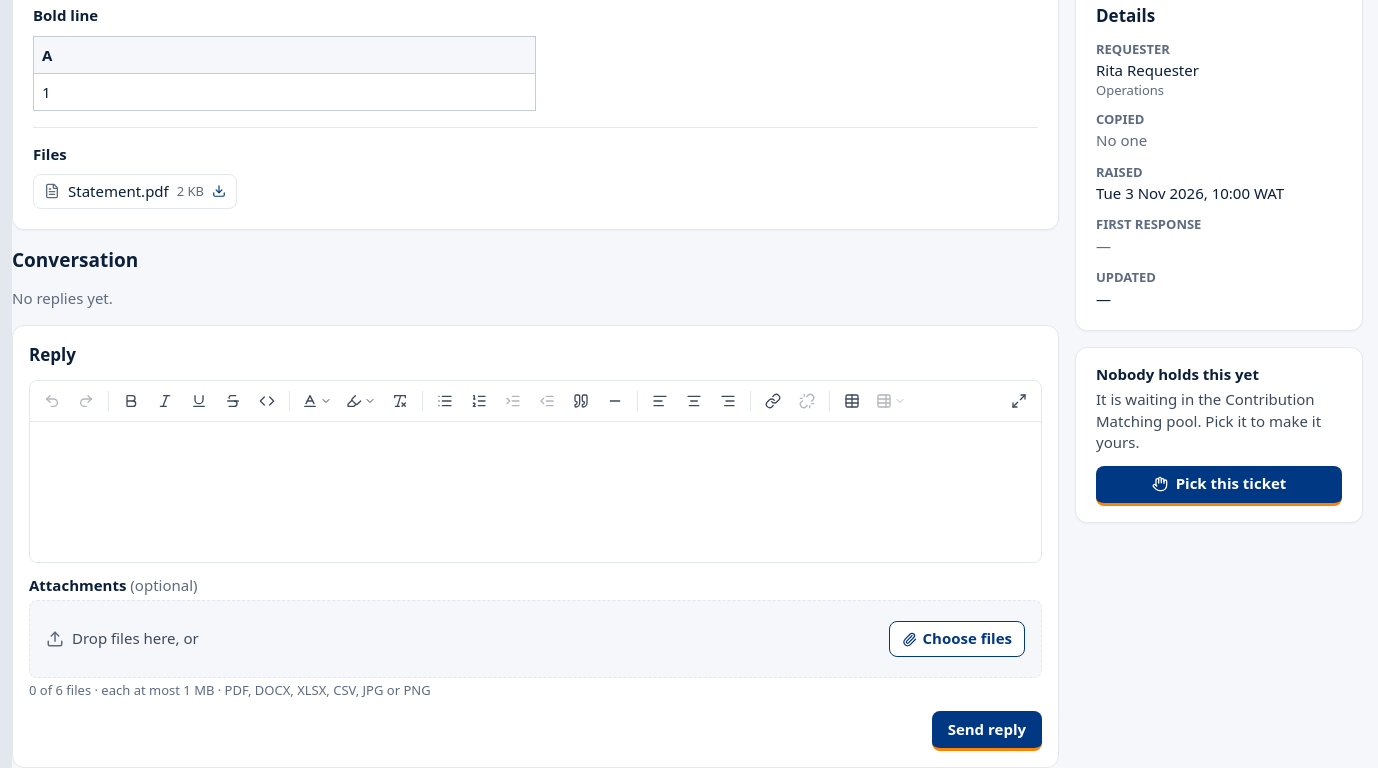
Test: Pick this ticket › shows the server's message when the pick is refused (403)
(page scrolled)
Click the button "Pick this ticket": x=1219, y=486 [1096,466,1342,506]
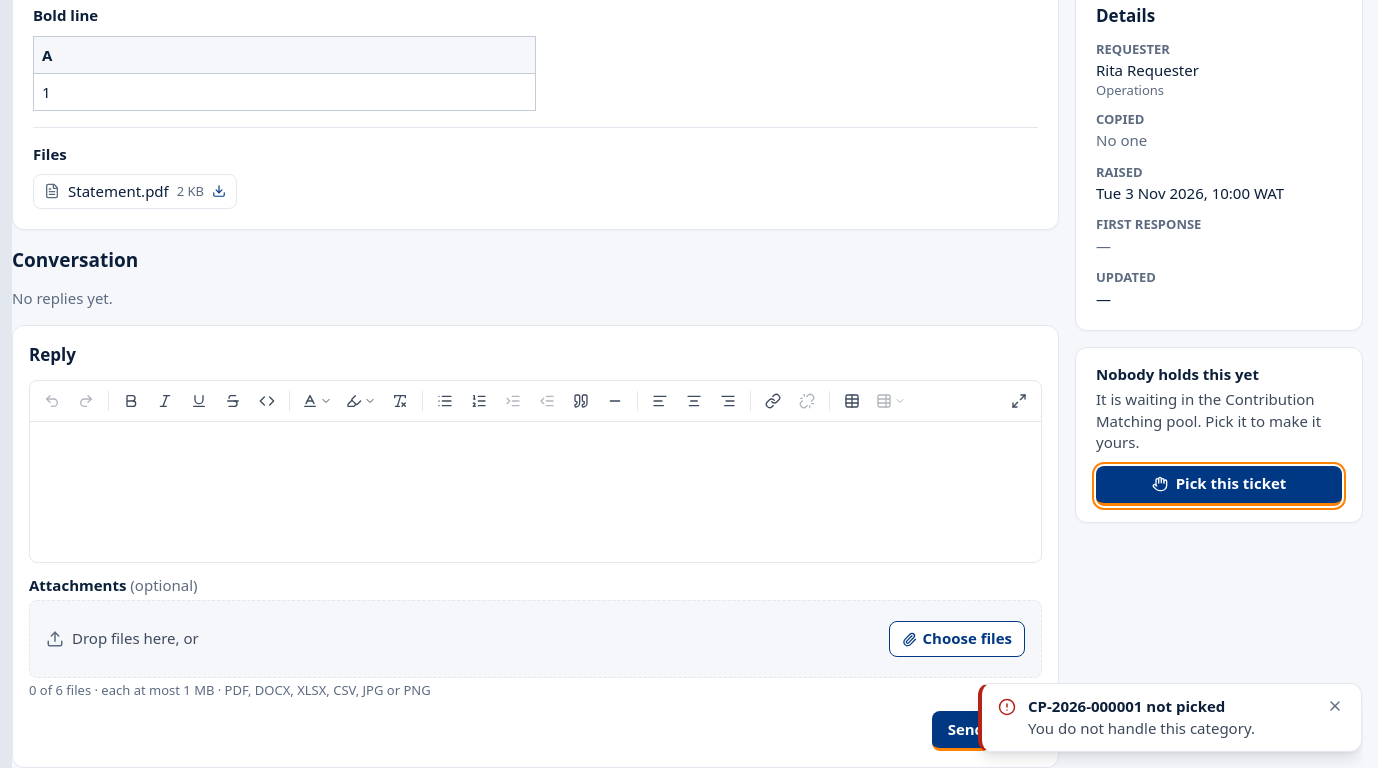
Now the text "You do not handle this category." is shown, box [1028,718,1255,738]
